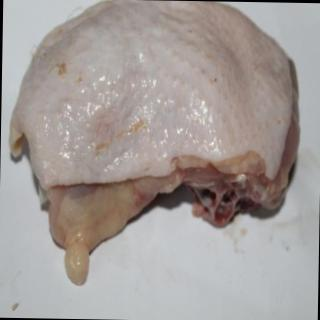Ayam: (5, 1, 302, 290)
